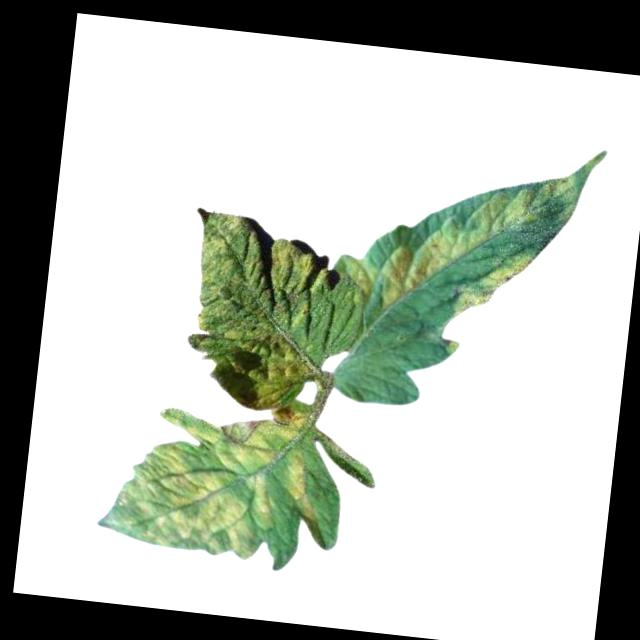Leaf_Mold: (336, 150, 582, 334), (93, 397, 338, 569), (175, 206, 331, 418), (452, 246, 531, 325)
